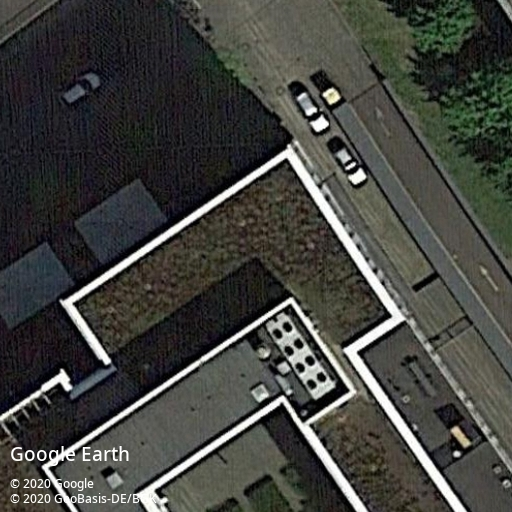Chiller: (264, 312, 337, 402)
